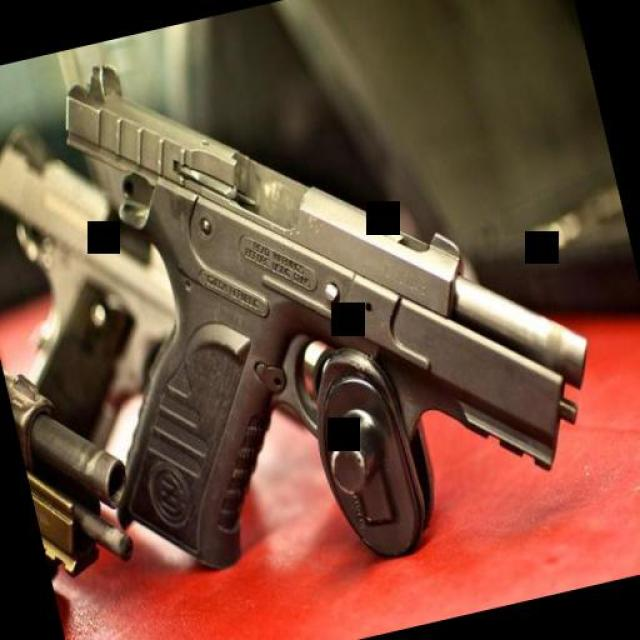gun: (25, 0, 615, 612)
